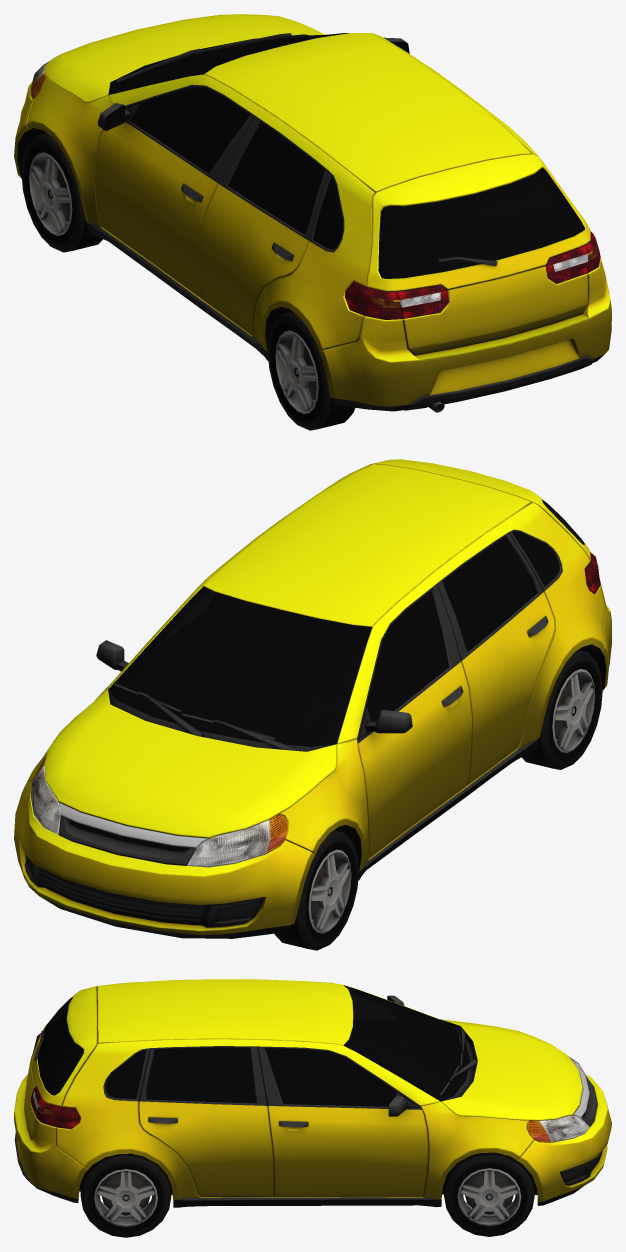
File: hatchback.glb
The picture shows the model from 3 angles, top to bottom: view 1: azimuth 30°, elevation 25°; view 2: azimuth 150°, elevation 25°; view 3: azimuth 270°, elevation 25°; orthographic projection. The views are drawn at different scales.
Visible parts, largest first — view 1: Body, Wheel_RL, Wheel_FL; view 2: Body, Wheel_FL, Wheel_RL; view 3: Body, Wheel_FR, Wheel_RR.
Part boxes in pixels (box(x1,y1,x2,y2)): Body: box(14, 14, 611, 412); Wheel_RL: box(267, 311, 355, 430); Wheel_FL: box(21, 133, 102, 252); Body: box(14, 459, 611, 938); Wheel_FL: box(274, 830, 358, 950); Wheel_RL: box(521, 649, 602, 769); Body: box(14, 979, 611, 1207); Wheel_FR: box(444, 1152, 534, 1236); Wheel_RR: box(80, 1153, 171, 1237).
Bounding box in the file's own units: 1.74 × 1.35 × 3.96.
Materials: 4 (3 with a texture image).
